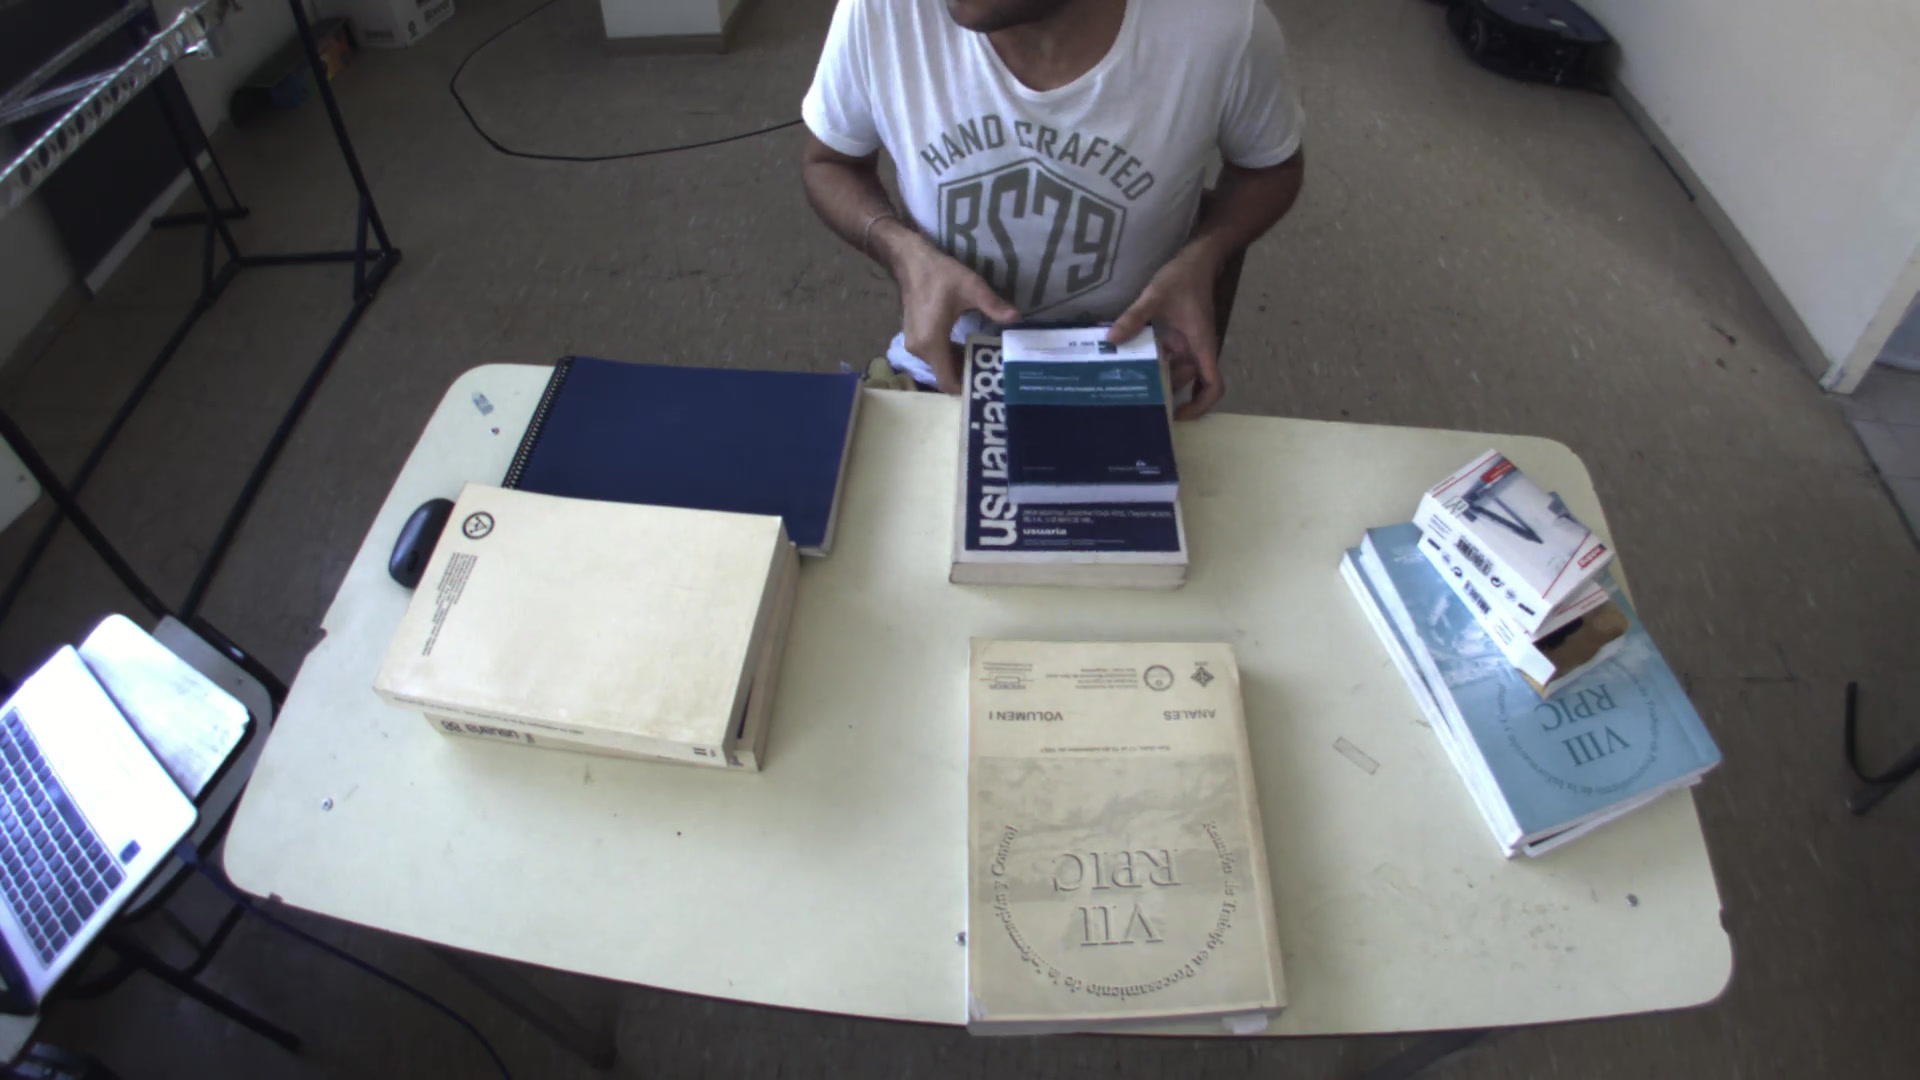hand: (1102, 239, 1249, 419), (882, 231, 1023, 378)
